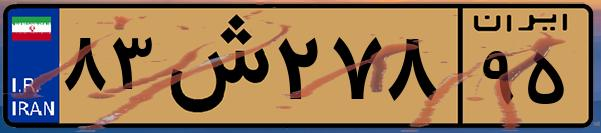2: (270, 28, 330, 110)
3: (110, 28, 158, 98)
5: (525, 38, 570, 115)
7: (330, 28, 385, 110)
8: (385, 28, 445, 110), (57, 26, 110, 100)
9: (475, 38, 525, 113)
ش: (158, 12, 270, 120)
